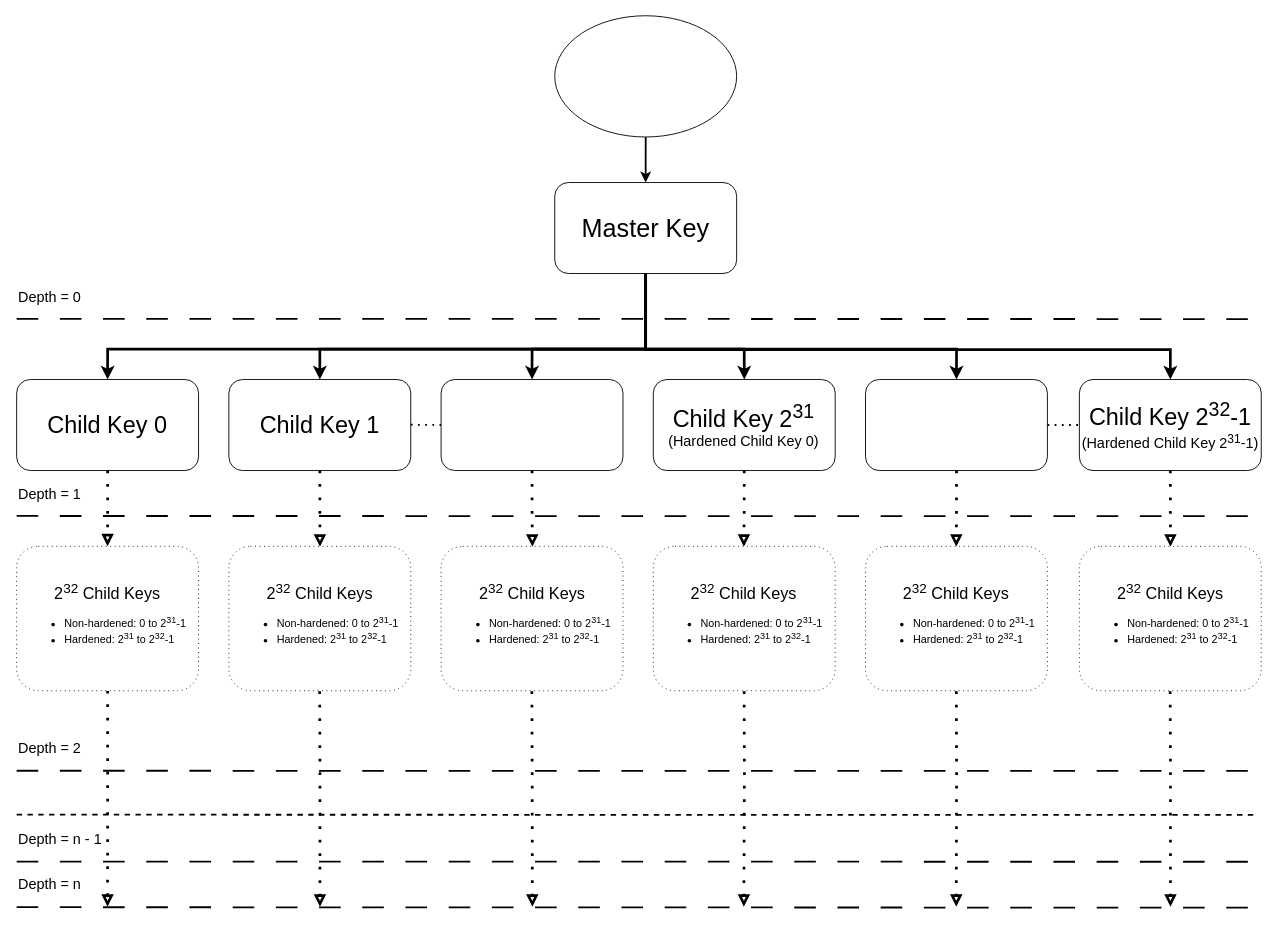
This 1277x931 diagram has some shape labels left out. The shapes that lost their labels are listed below. From the top down, each one's centre as x and y in pixels, then its label:
At pixel 645 76: "Seed".
At pixel 531 425: "Child Key 2 31 -1".
At pixel 956 425: "Child Key 2 31 +1 (Hardened Child Key 1)".
